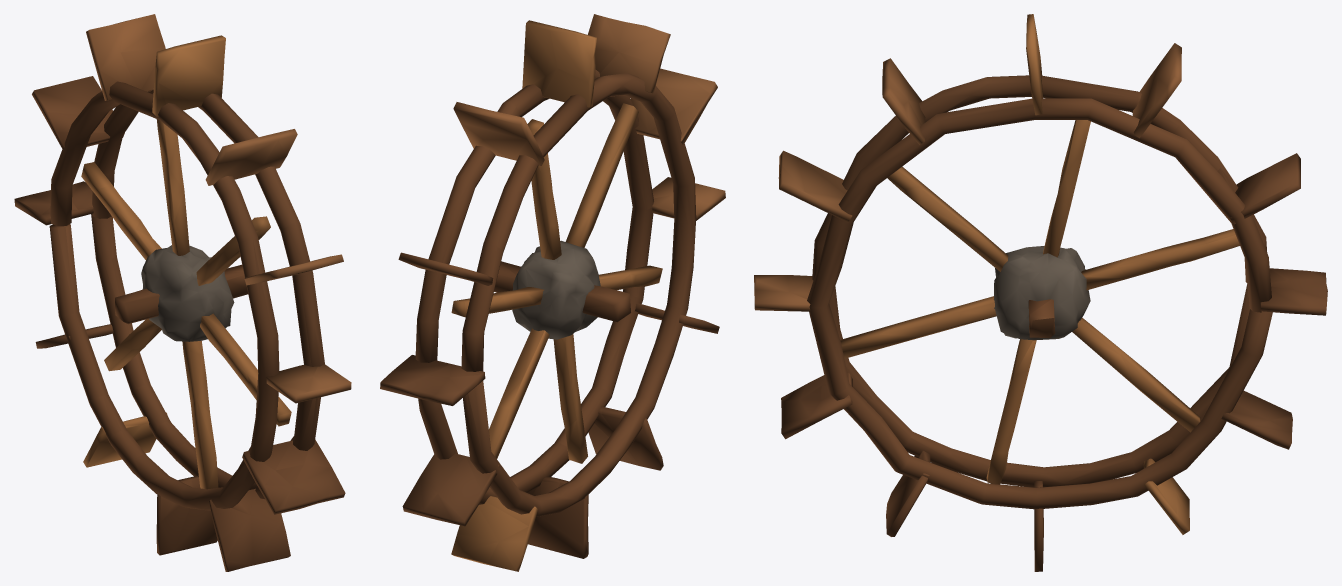
The model's file is glade_mill_wheel_lod1.glb.
3 renders of one model, left to right at view 1: azimuth 30°, elevation 25°; view 2: azimuth 150°, elevation 25°; view 3: azimuth 270°, elevation 25°, orthographic. The views are drawn at different scales.
Parts seen in each view (by area): view 1: glade_mill_wheel.001; view 2: glade_mill_wheel.001; view 3: glade_mill_wheel.001.
Boxes of the visible parts, bbox=[...] form: glade_mill_wheel.001: bbox=[14, 14, 351, 571]; glade_mill_wheel.001: bbox=[380, 14, 725, 571]; glade_mill_wheel.001: bbox=[754, 14, 1327, 571].
Size of the model in its own units: 2.23 by 7.99 by 7.86.
